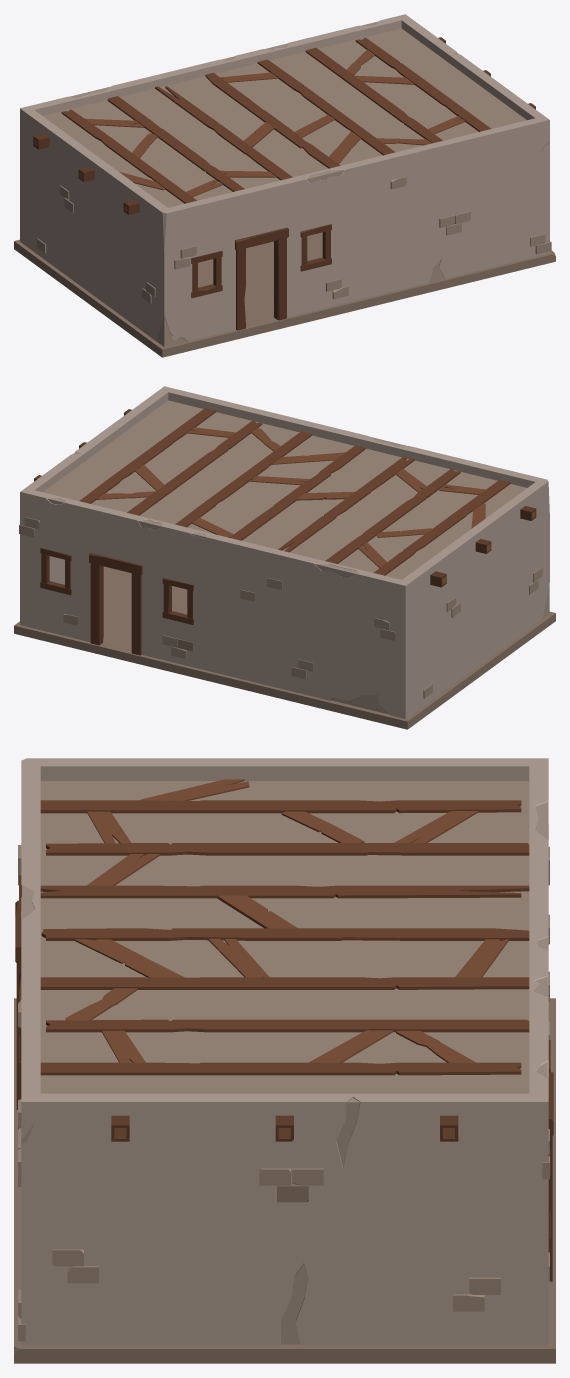
The model's file is House_03.fbx.
3 views of the same model, one above another, from view 1: azimuth 30°, elevation 25°; view 2: azimuth 150°, elevation 25°; view 3: azimuth 270°, elevation 25° (orthographic). The views are drawn at different scales.
Parts seen in each view (by area): view 1: House_03; view 2: House_03; view 3: House_03.
Boxes of the visible parts, x1,y1,x2,y2 form: House_03: [14, 14, 555, 357]; House_03: [14, 386, 555, 729]; House_03: [14, 758, 555, 1363].
Bounding box in the file's own units: 1056 × 350 × 666.
